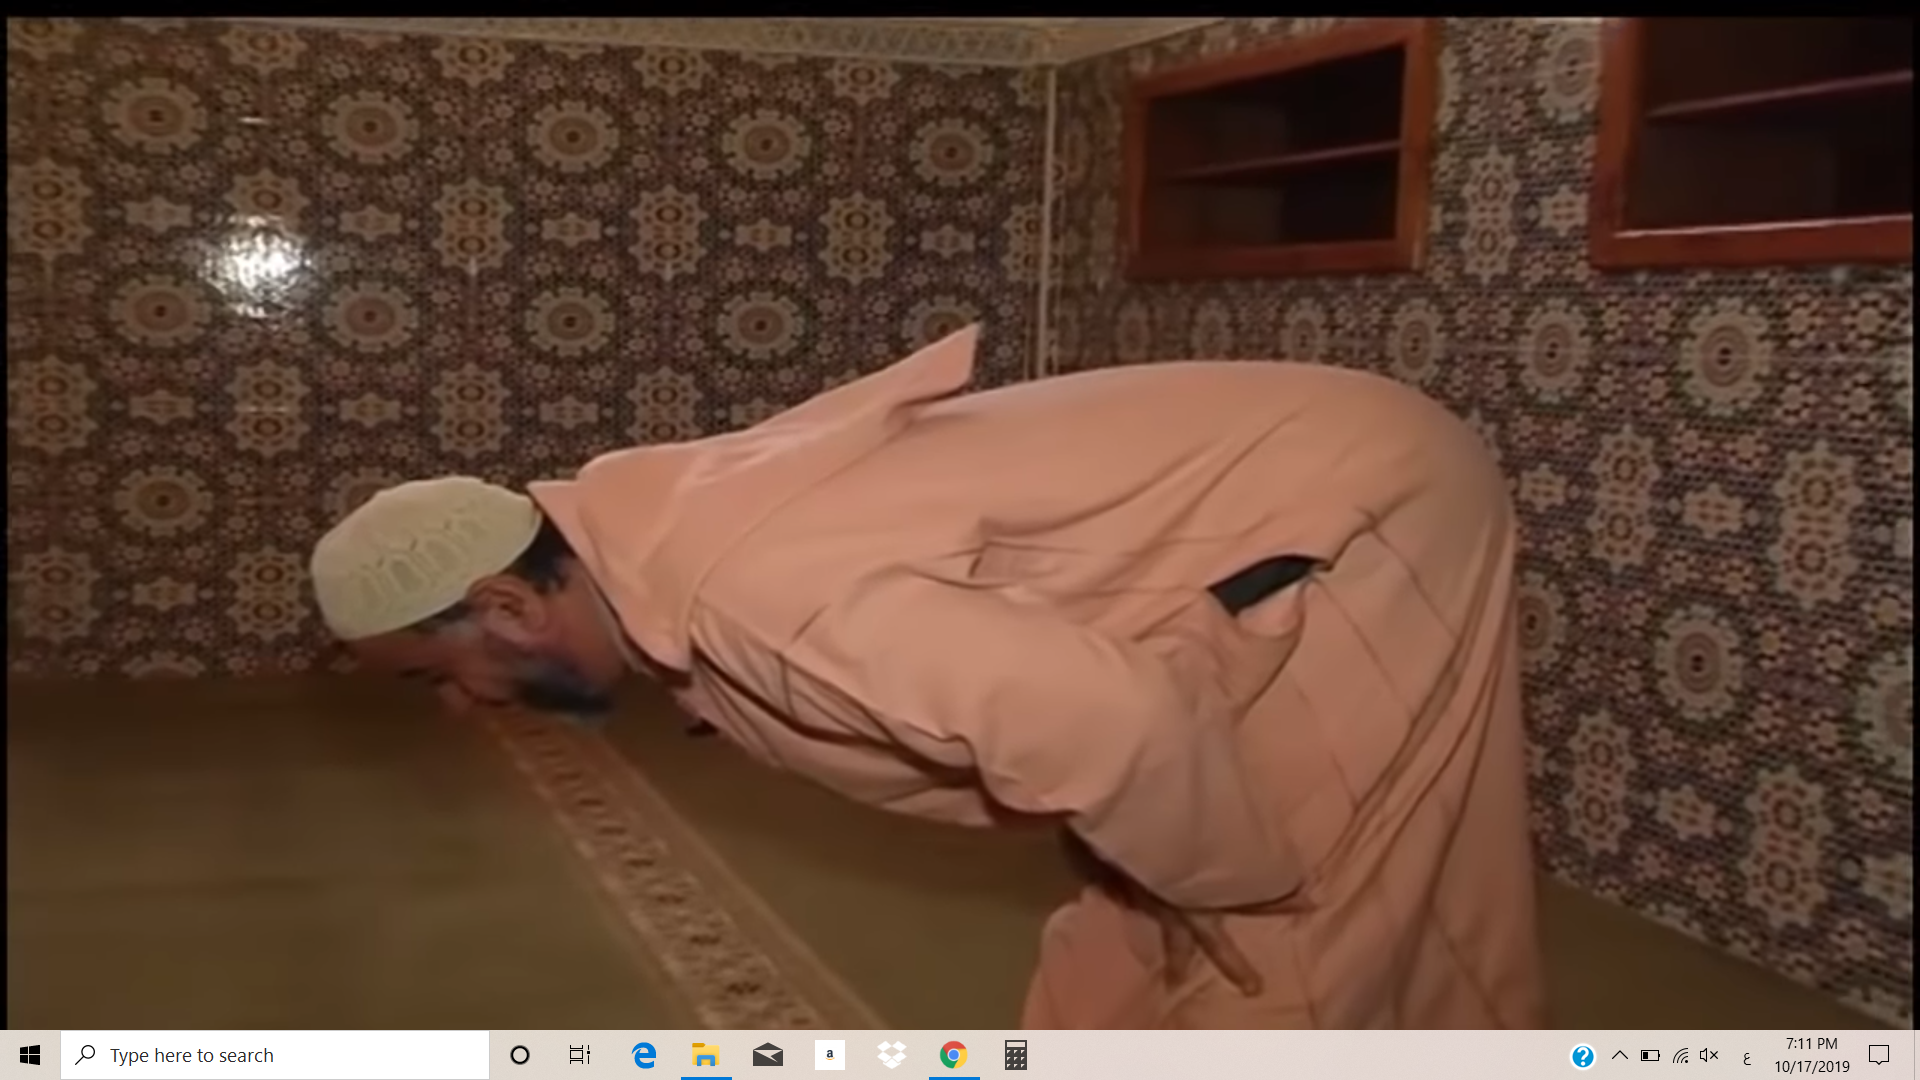ruku: (200, 255, 1725, 1080)
